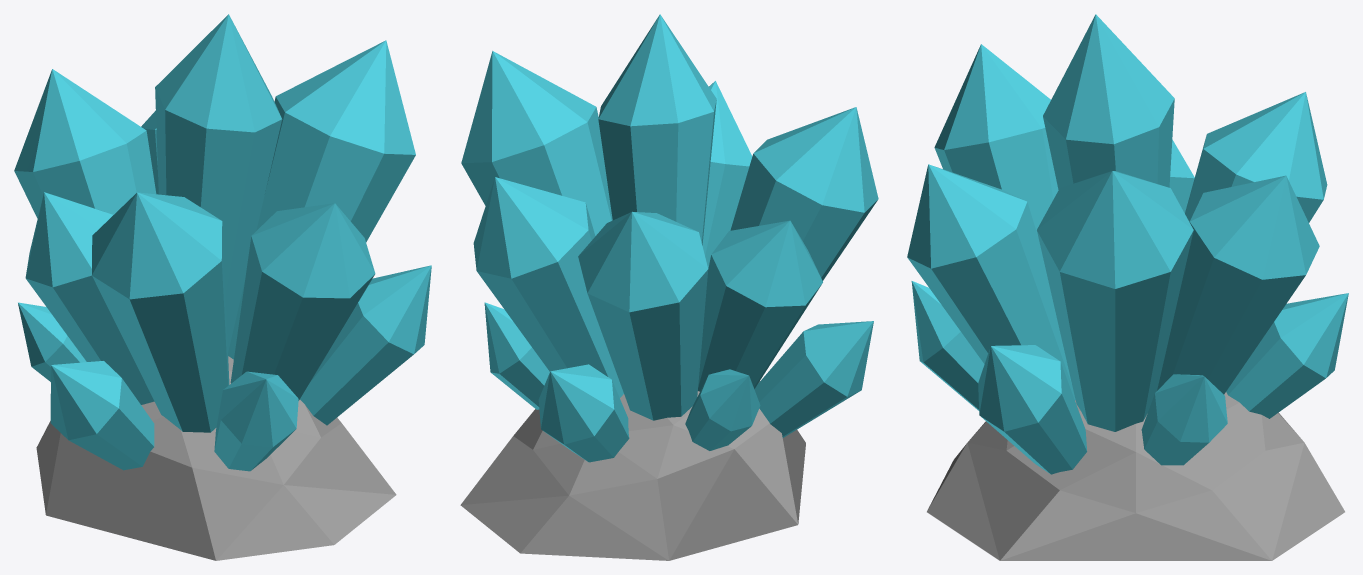
The model's file is fantasy_plant_047.fbx.
3 renders of one model, left to right at view 1: azimuth 30°, elevation 25°; view 2: azimuth 150°, elevation 25°; view 3: azimuth 270°, elevation 25°, orthographic. The views are drawn at different scales.
Parts seen in each view (by area): view 1: fantasy_plant.047; view 2: fantasy_plant.047; view 3: fantasy_plant.047.
Part boxes in pixels (<box>): fantasy_plant.047: <box>14,14,431,560</box>; fantasy_plant.047: <box>460,14,878,560</box>; fantasy_plant.047: <box>907,14,1348,560</box>.
Bounding box in the file's own units: 176 × 207 × 170.
1 material, 1 textured.
